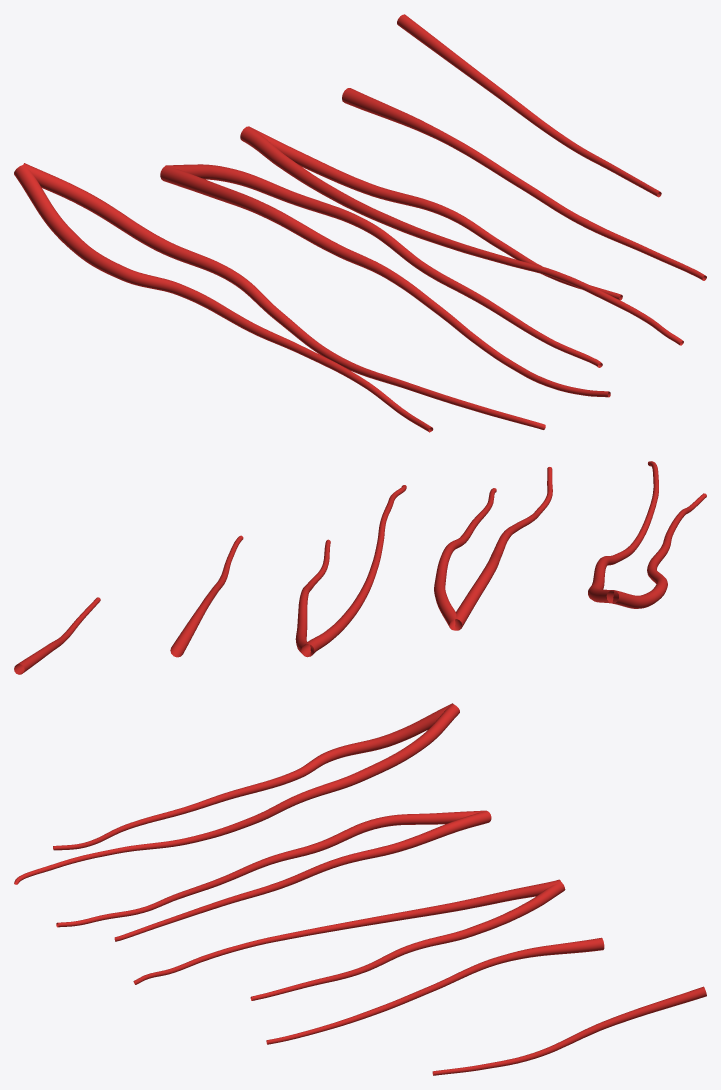
File: circulatorio-dorsal-digital-veins-of-foot-l.glb
3 renders of one model, top to bottom at view 1: azimuth 30°, elevation 25°; view 2: azimuth 150°, elevation 25°; view 3: azimuth 270°, elevation 25°, orthographic. The views are drawn at different scales.
Parts seen in each view (by area): view 1: Dorsal digital veins of foot.l; view 2: Dorsal digital veins of foot.l; view 3: Dorsal digital veins of foot.l.
Part boxes in pixels (x1=…): Dorsal digital veins of foot.l: x1=14, y1=14, x2=706, y2=432; Dorsal digital veins of foot.l: x1=14, y1=461, x2=706, y2=674; Dorsal digital veins of foot.l: x1=14, y1=703, x2=706, y2=1075.
Size of the model in its own units: 0.063 by 0.0167 by 0.077.
